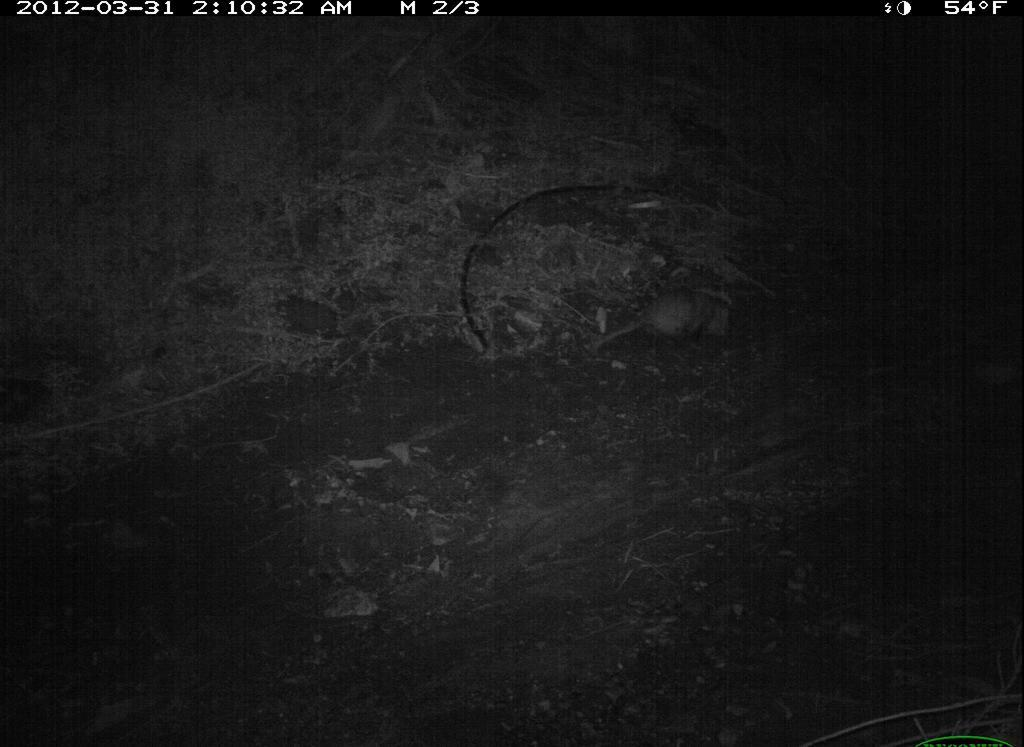opossum: (624, 282, 758, 368)
